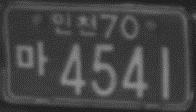0: (121, 14, 139, 40)
1: (154, 47, 177, 97)
4: (59, 42, 87, 95), (122, 45, 149, 97)
5: (91, 42, 118, 96)
7: (100, 13, 119, 38)
마: (15, 40, 49, 76)
인천_O: (52, 13, 98, 36)
